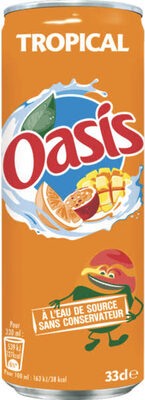33CL CAN SLIM TROPICAL: (7, 20, 138, 380)
